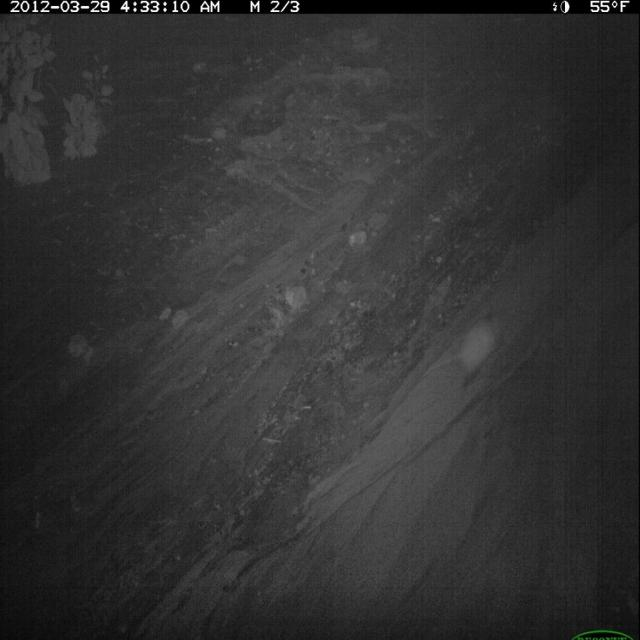opossum: (415, 304, 512, 391)
